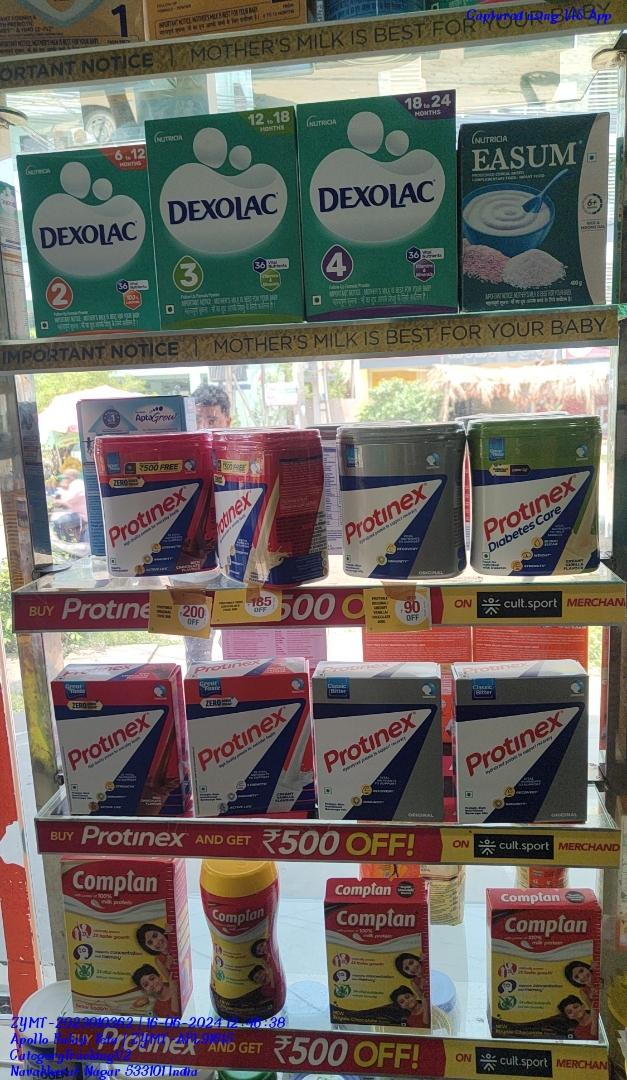COMPLAN_CHOCOLATE_200_GMS_PACK: (489, 904, 601, 1038), (328, 902, 430, 1032)
COMPLAN_CHOCOLATE_500_GMS_JAR: (202, 863, 286, 1020)
PROTINEX_CHOCOLATE_400_G_JAR: (100, 436, 210, 574)
PROTINEX_ORIGINAL_400_G_JAR: (338, 426, 462, 581)
PROTINEX_VANILLA_400_G_JAR: (217, 430, 276, 581)
